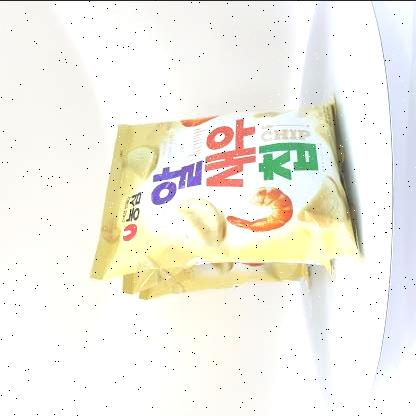Others: (78, 84, 374, 306)
